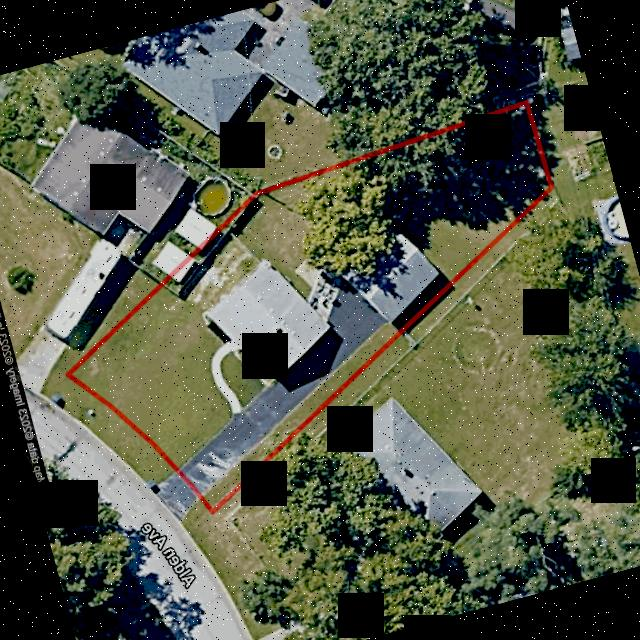Driveway: (181, 279, 385, 493)
Extra Driveway: (157, 474, 195, 520)
Extra Lawn: (45, 379, 168, 481), (177, 500, 208, 536)
House: (204, 259, 328, 379)
Other: (343, 225, 440, 325), (294, 261, 338, 320)
Sidewalk: (210, 341, 242, 413)
